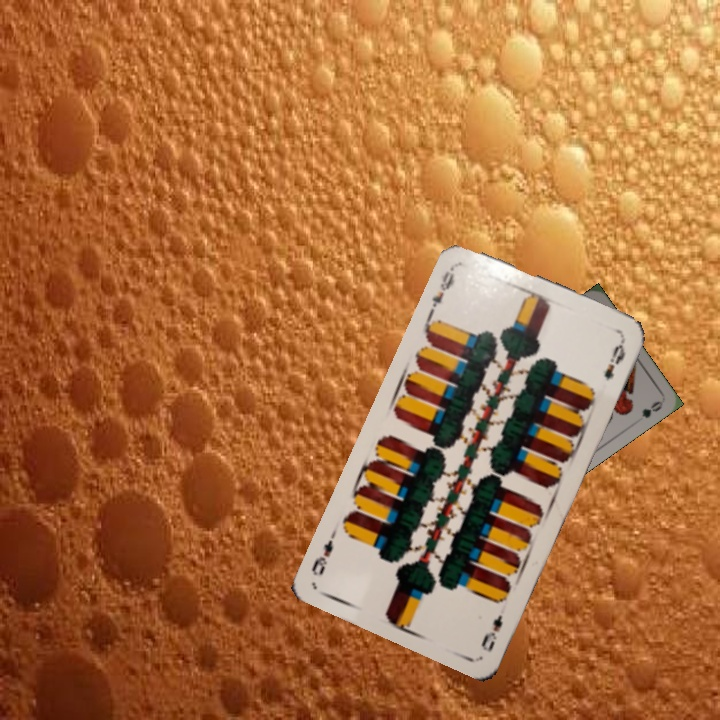E9: (426, 260, 461, 316), (477, 610, 506, 654)
